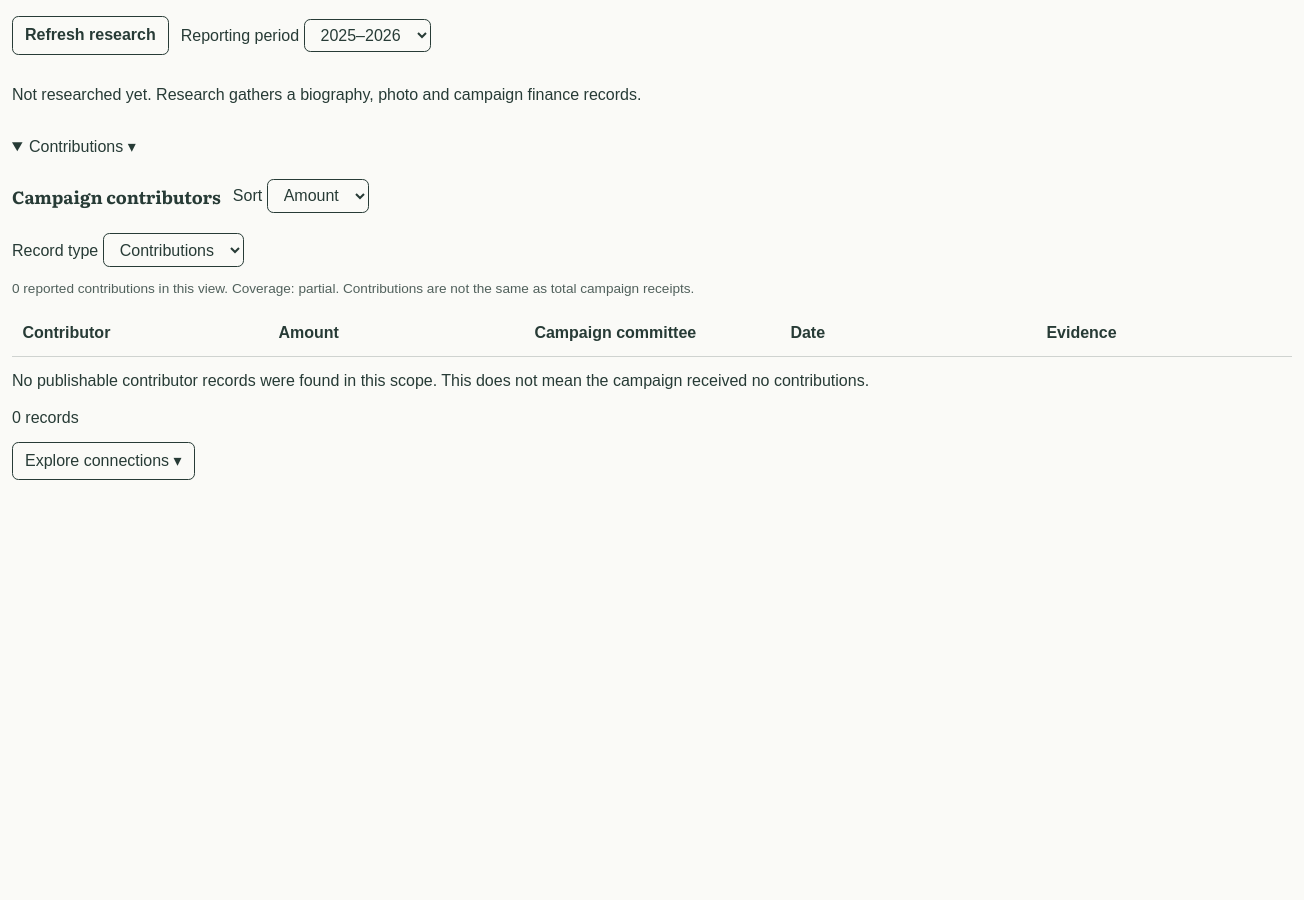
reloads open connections when refreshed research publishes a new snapshot
The width and height of the screenshot is (1304, 900).
Click the button "Explore connections ▾" at (103, 461), box [12,442,195,480]
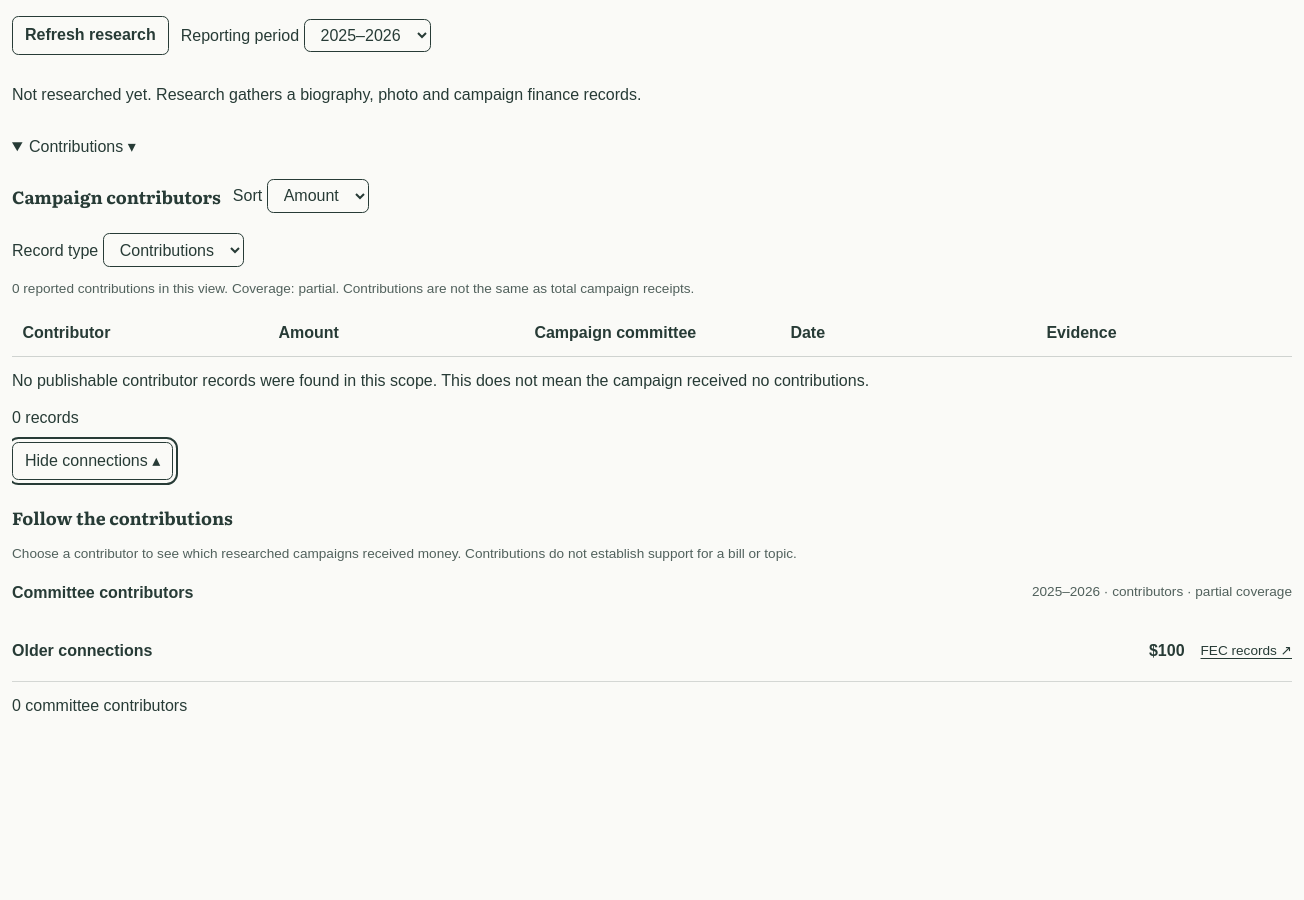
Expected: the button "Older connections" is shown, [12,635,1133,667]
Click the button "Refresh research" at (90, 35), box [12,16,169,55]
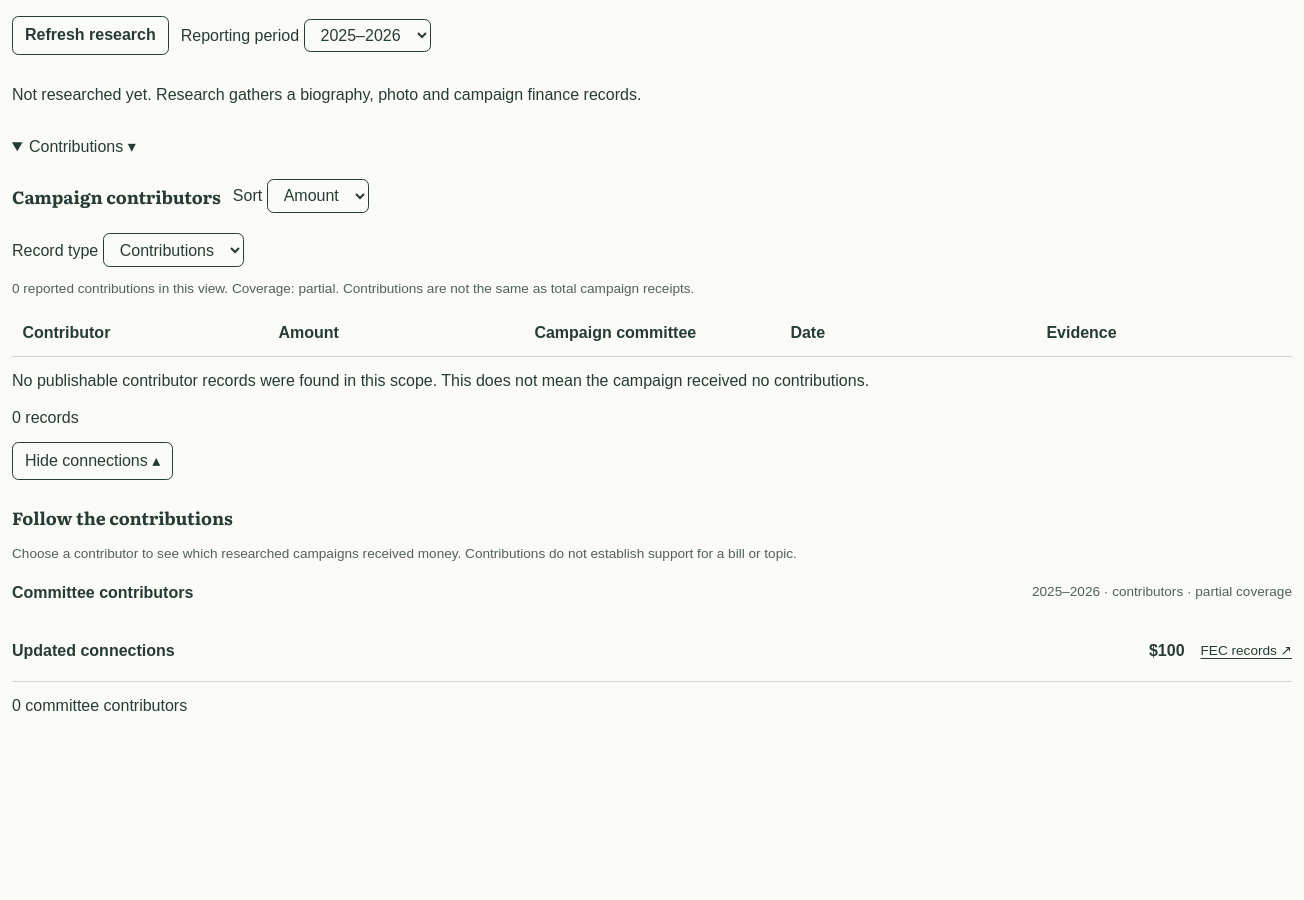
Expected: the button "Updated connections" is shown, [12,635,1133,667]
Expected: the button "Older connections" is gone
